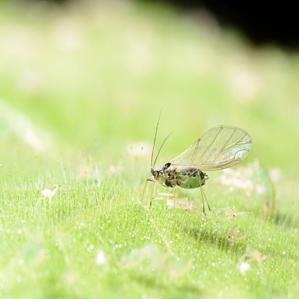Green peach aphid: (106, 106, 260, 233)
